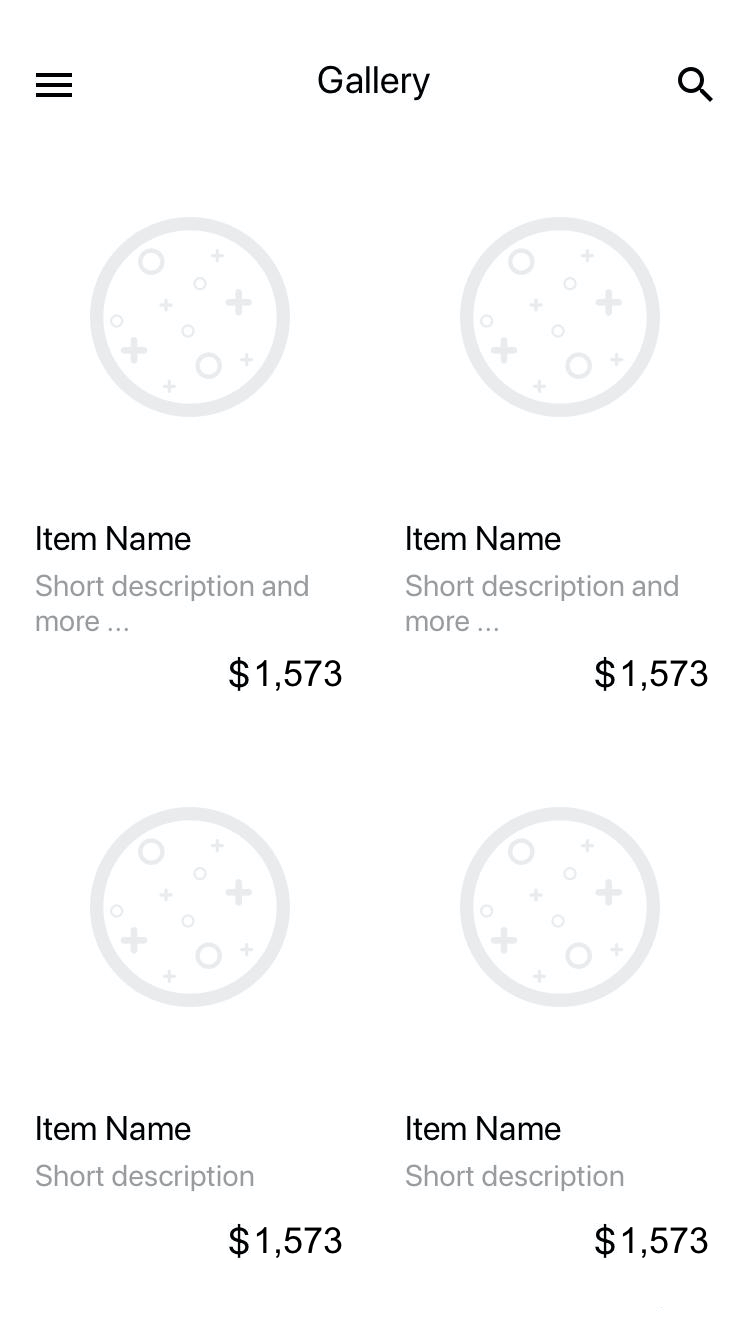Icon: (677, 67, 714, 104), (36, 72, 74, 99)
Image: (460, 217, 662, 419), (90, 806, 292, 1008), (90, 216, 291, 418), (460, 806, 661, 1008)
Text: (405, 573, 679, 633), (35, 574, 310, 633), (405, 1163, 625, 1193), (35, 1163, 255, 1192), (229, 656, 343, 693), (36, 525, 192, 552), (406, 525, 562, 552), (36, 1114, 192, 1141), (406, 1115, 562, 1142), (318, 65, 431, 102), (594, 656, 708, 692), (594, 1223, 708, 1258), (229, 1224, 343, 1259)
